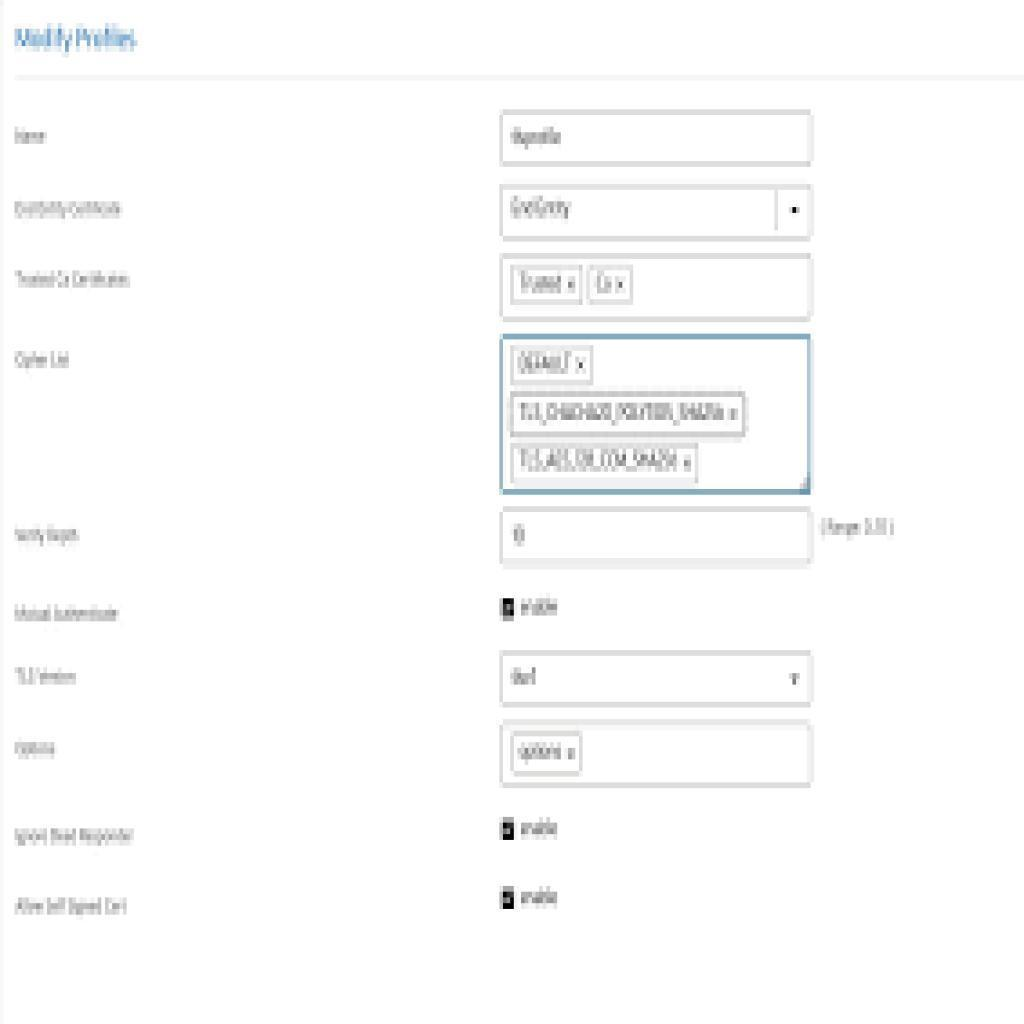checkbox: (501, 815, 518, 844), (501, 594, 519, 621), (500, 887, 516, 912)
dropdown: (500, 652, 816, 711), (500, 184, 817, 242)
input: (504, 721, 815, 786), (499, 110, 816, 168), (503, 510, 816, 566)
label: (518, 885, 559, 909), (520, 820, 560, 841), (516, 600, 559, 618)
